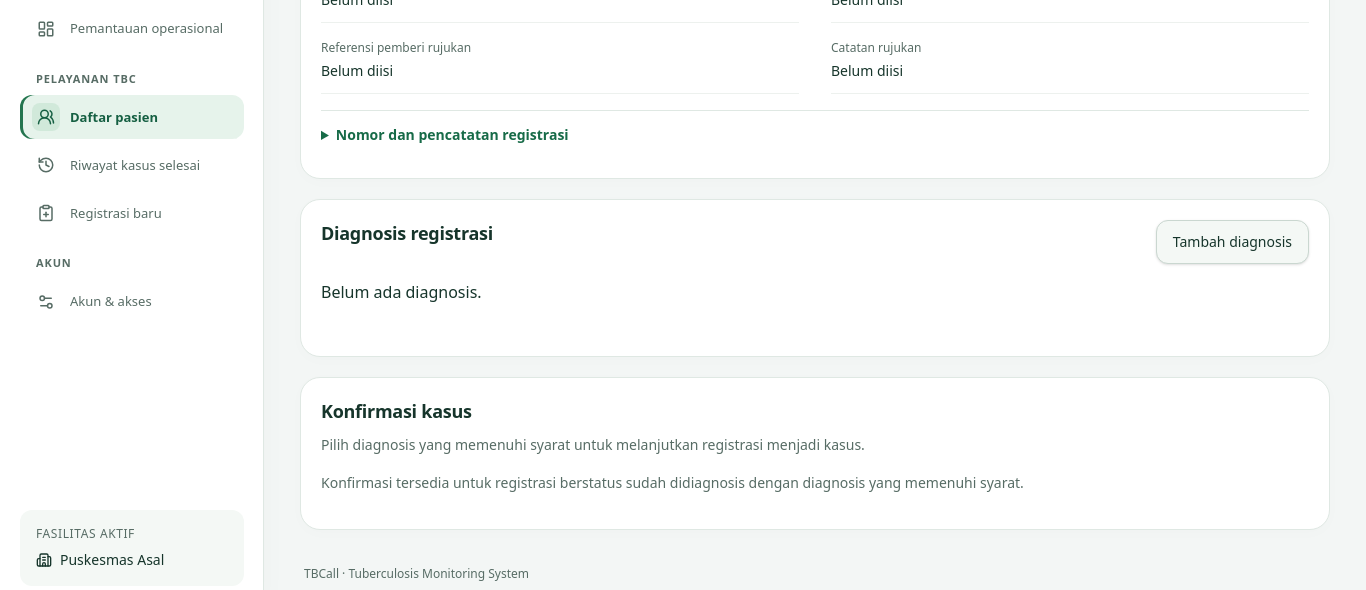
Test: creates diagnosis with current registration GET ETag and refetches its OPEN→DIAGNOSED transition
(page scrolled)
Click the button "Tambah diagnosis" at (1232,242), box [1156,220,1309,264]
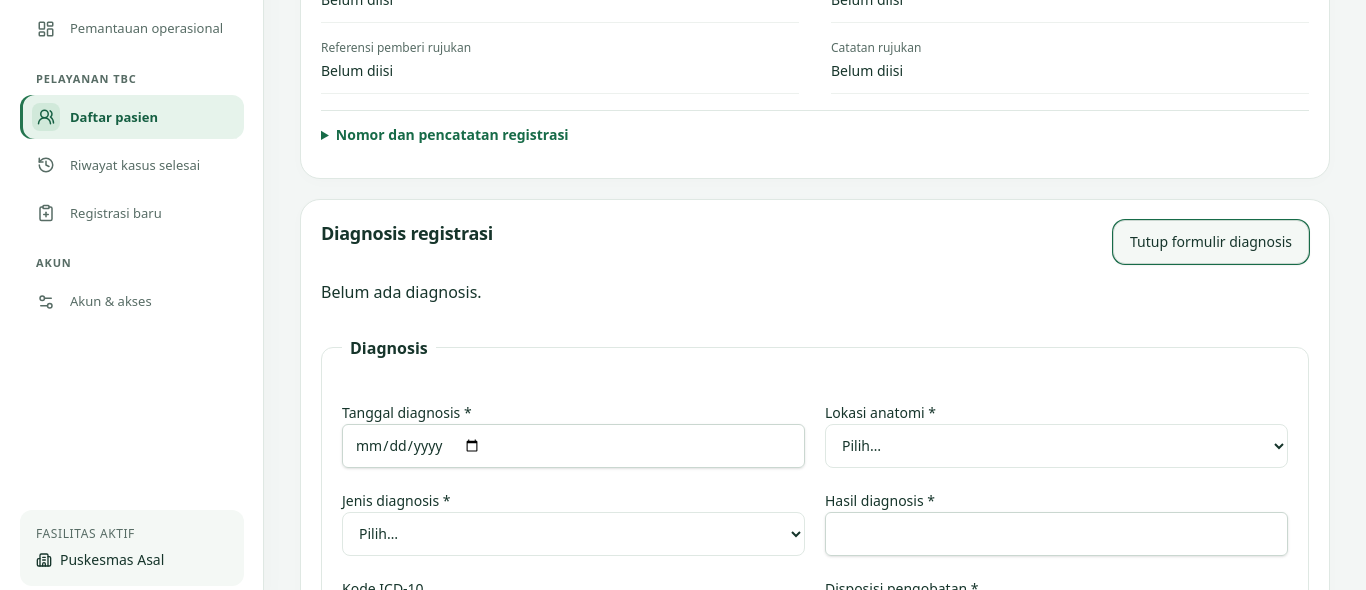
Type "2026-09-02" into the date field labelled "Tanggal diagnosis *" at (574,446), box [342,424,805,468]
Select "Paru" in the dropdown labelled "Lokasi anatomi *" at (1056,446), box [825,424,1288,468]
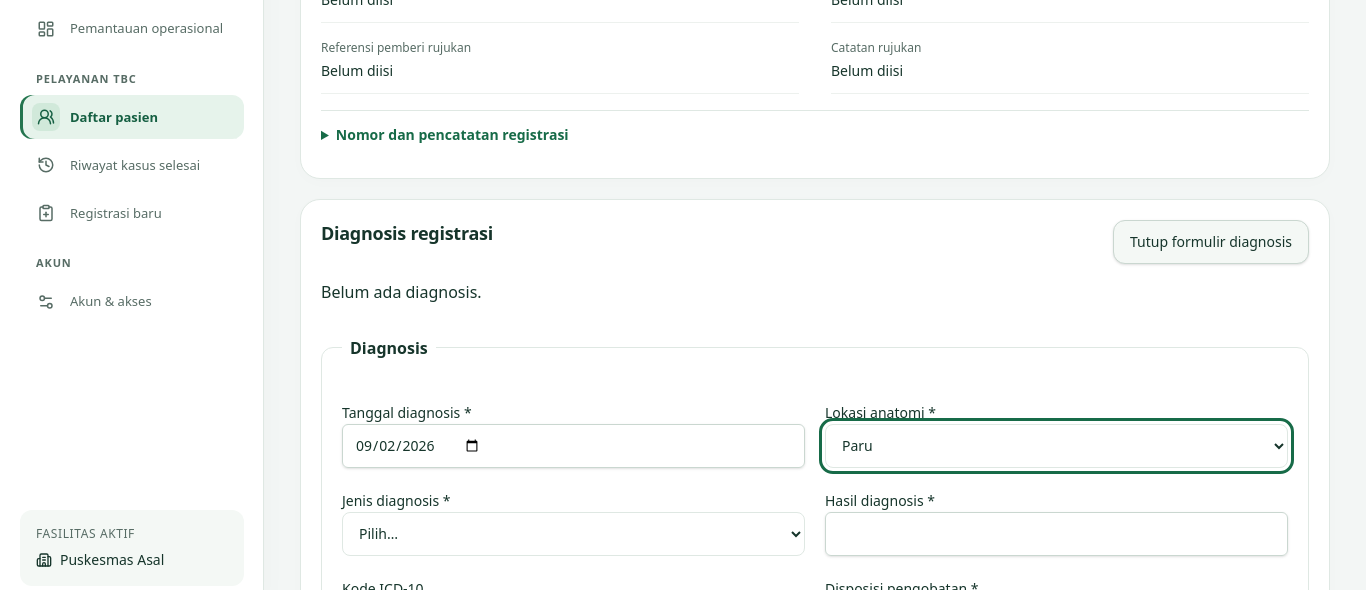
Select "Terdiagnosis klinis" in the dropdown labelled "Jenis diagnosis *" at (574,534), box [342,512,805,556]
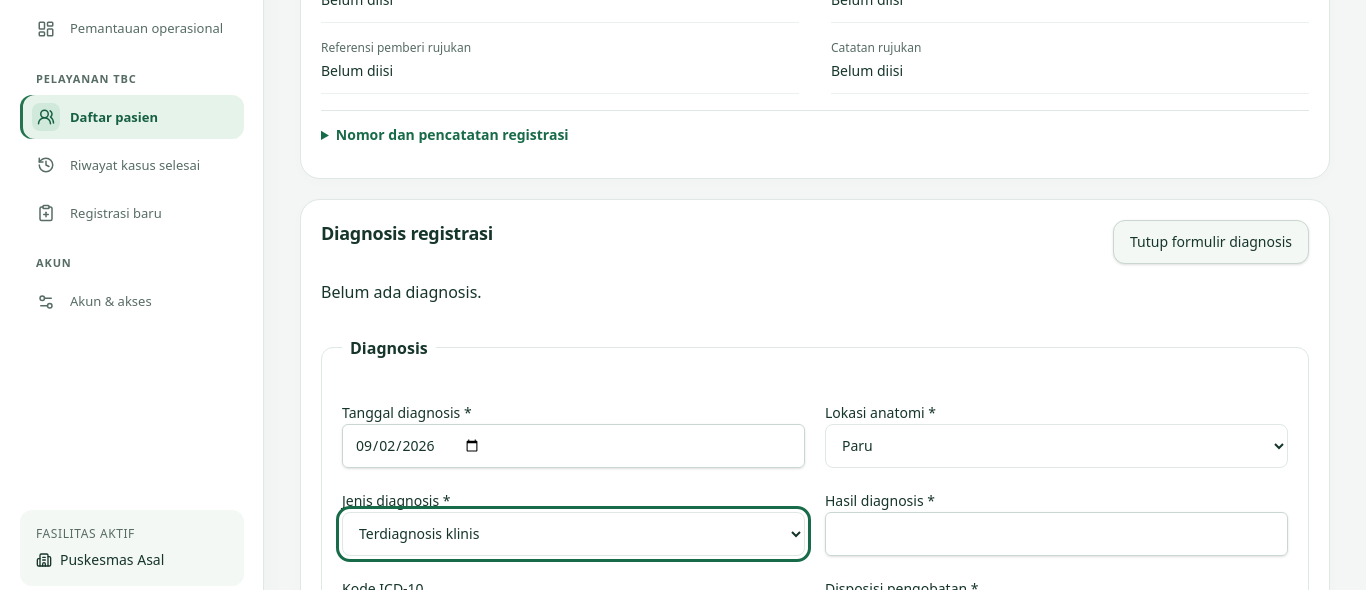
Type "Dicatat petugas" into the field labelled "Hasil diagnosis *" at (1056,534), box [825,512,1288,556]
(page scrolled)
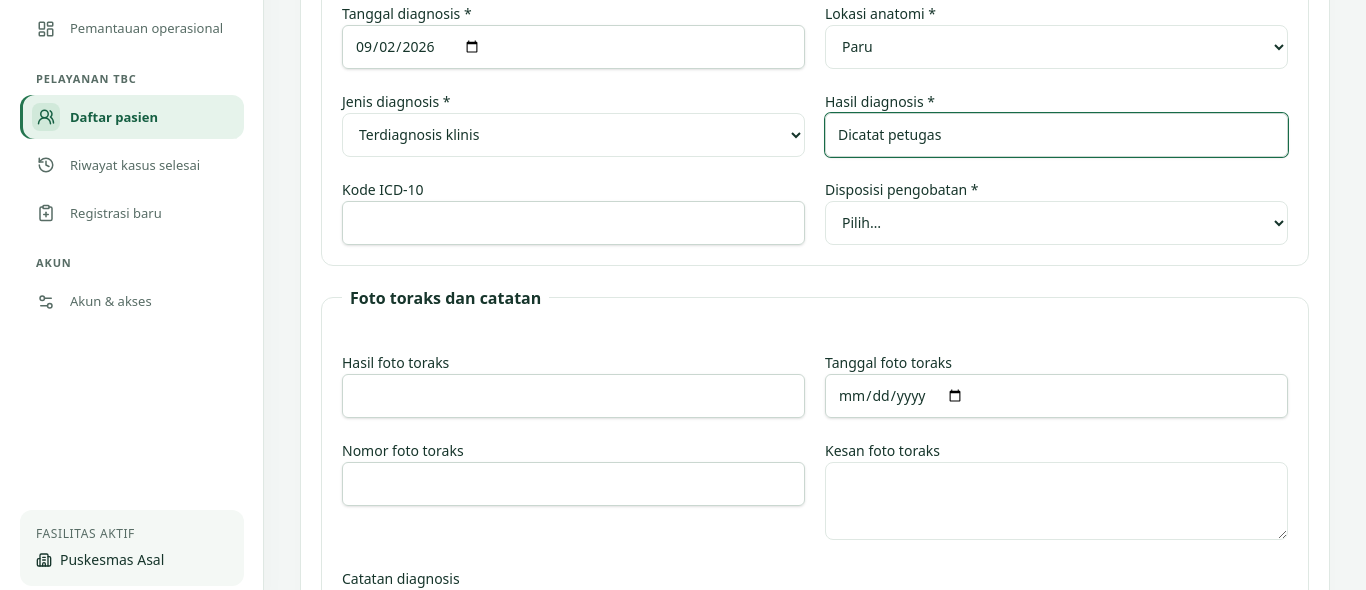
Select "Diobati di fasyankes ini" in the dropdown labelled "Disposisi pengobatan *" at (1056,223), box [825,201,1288,245]
(page scrolled)
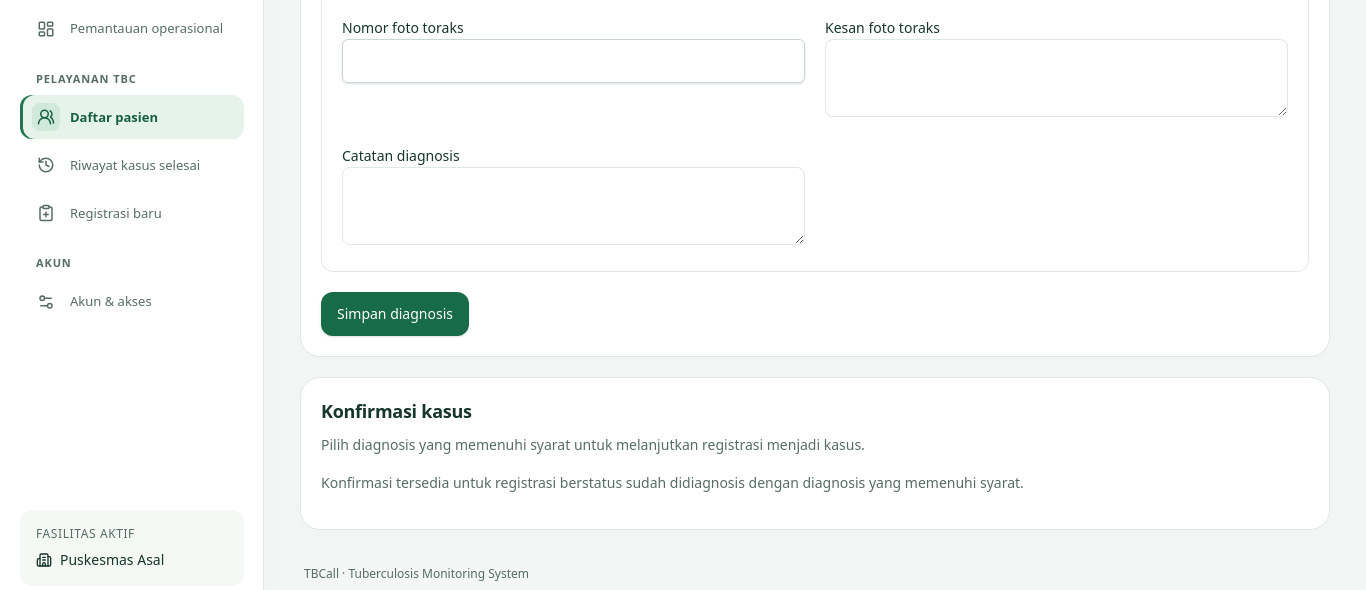
Click the button "Simpan diagnosis" at (395,314), box [321,292,469,336]
(page scrolled)
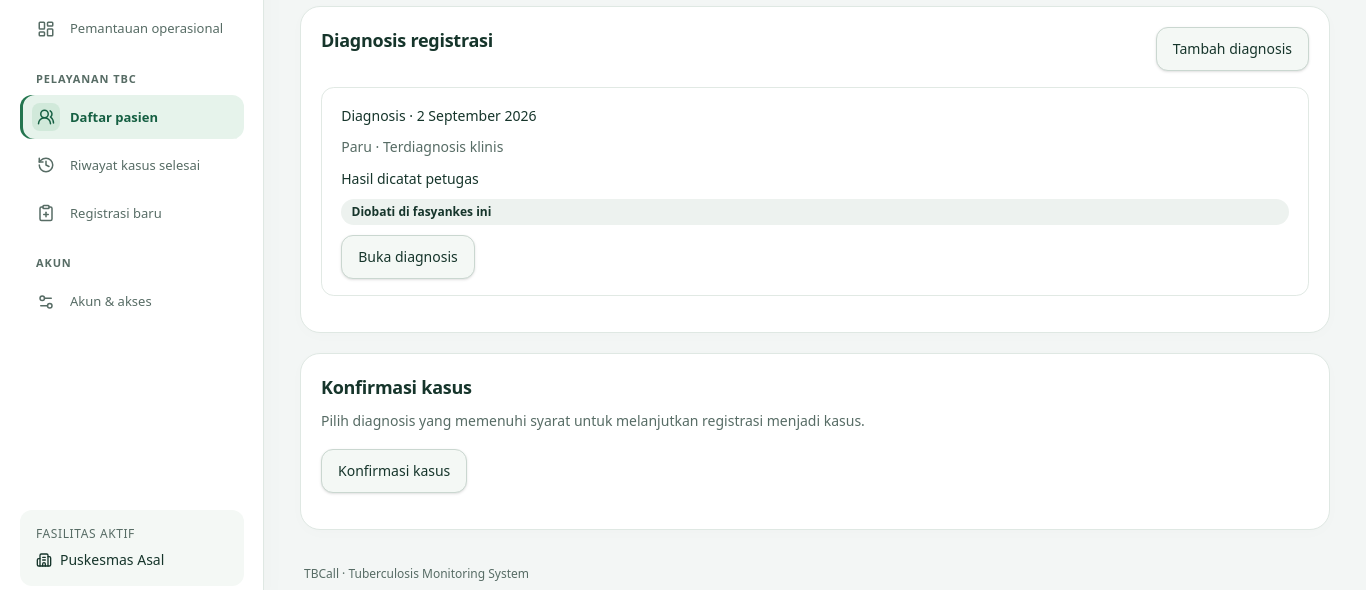
Result: the link "Buka diagnosis" is shown at [341,235,475,279]
